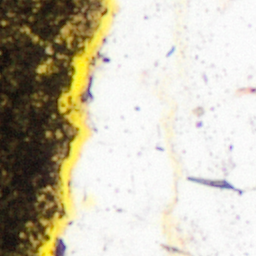cement_matrix: (0, 0, 97, 255), (63, 27, 71, 37), (42, 65, 47, 69)
cracks: (36, 0, 112, 255)
gravel_crushed_stones: (60, 0, 255, 255), (64, 28, 70, 36), (43, 66, 46, 68)
